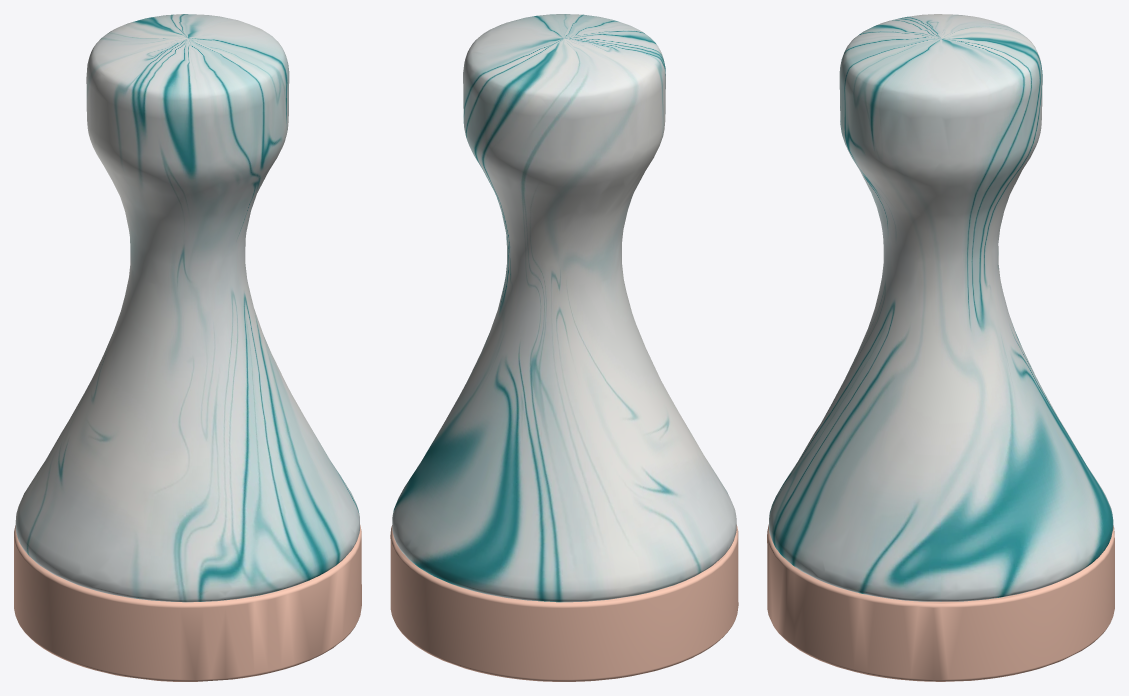
File: rook-white.glb
3 views of the same model, side by side, from view 1: azimuth 30°, elevation 25°; view 2: azimuth 150°, elevation 25°; view 3: azimuth 270°, elevation 25° (orthographic).
Parts seen in each view (by area): view 1: vez_bila; view 2: vez_bila; view 3: vez_bila.
Part boxes in pixels (x1,y1,x2,y2): vez_bila: (14,14,361,681); vez_bila: (390,14,738,681); vez_bila: (767,14,1114,681).
Bounding box in the file's own units: 0.6726 × 1.22 × 0.6725.
2 materials, 1 textured.
